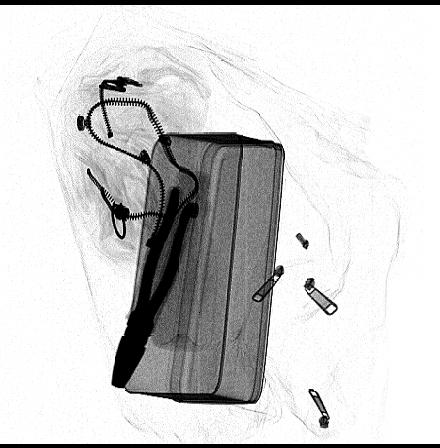Pliers: (111, 184, 200, 391)
